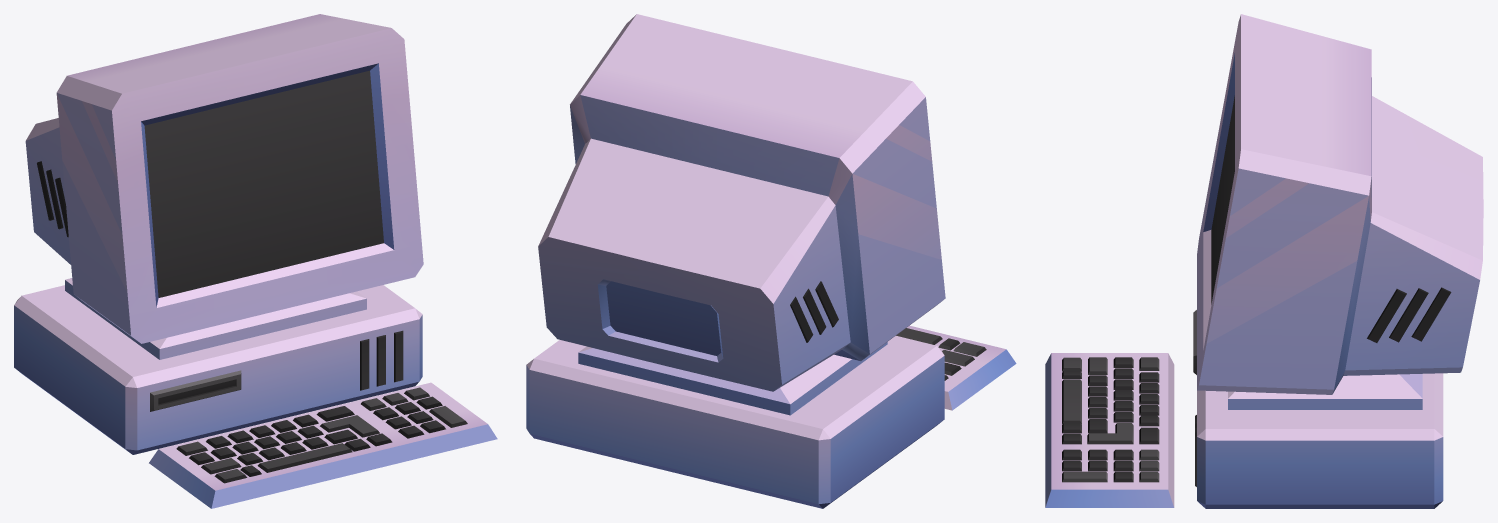
Rendered from computer.fbx.
3 views of the same model, side by side, from view 1: azimuth 30°, elevation 25°; view 2: azimuth 150°, elevation 25°; view 3: azimuth 270°, elevation 25° (orthographic). The views are drawn at different scales.
Visible parts, largest first — view 1: computer; view 2: computer; view 3: computer.
Boxes of the visible parts, x1=… form: computer: x1=14, y1=14, x2=497, y2=508; computer: x1=526, y1=14, x2=1016, y2=508; computer: x1=1045, y1=14, x2=1483, y2=508.
Size of the model in its own units: 71.7 by 80.04 by 89.13.
